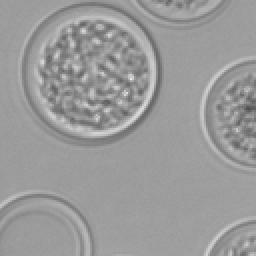picoshell: (18, 4, 160, 142), (202, 56, 256, 170), (0, 192, 92, 256), (128, 0, 224, 26), (204, 218, 256, 256)
